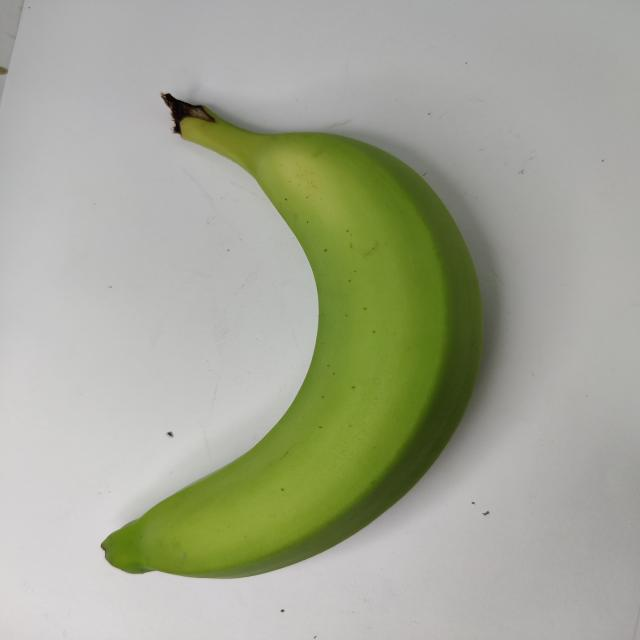raw: (85, 80, 518, 593)
